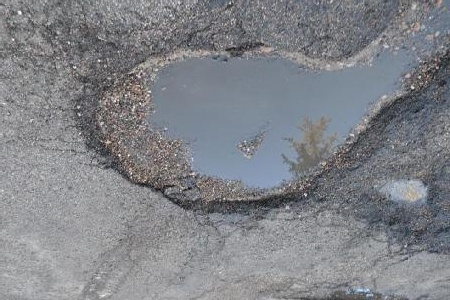pothole: (71, 41, 399, 221), (362, 174, 449, 244), (325, 286, 390, 300)
